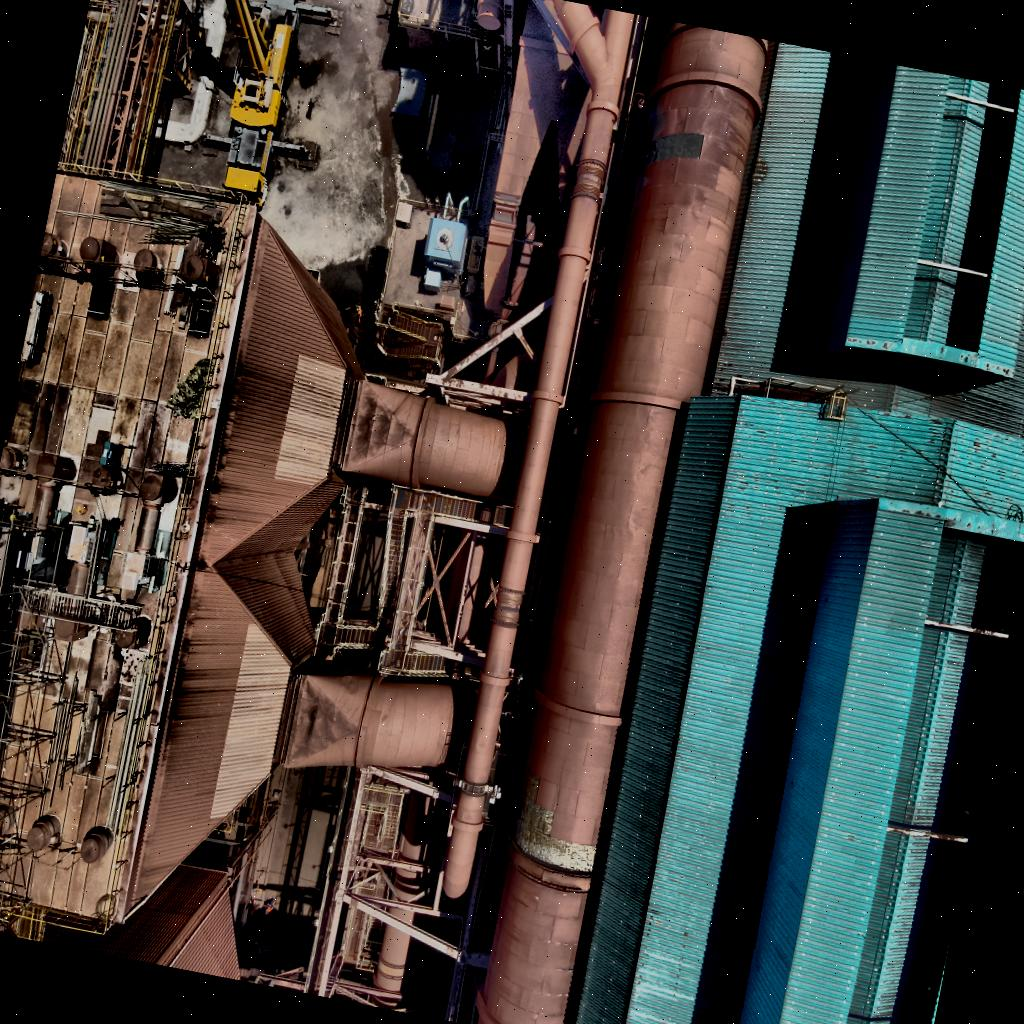Failures: (502, 772, 616, 880), (631, 120, 706, 190)
